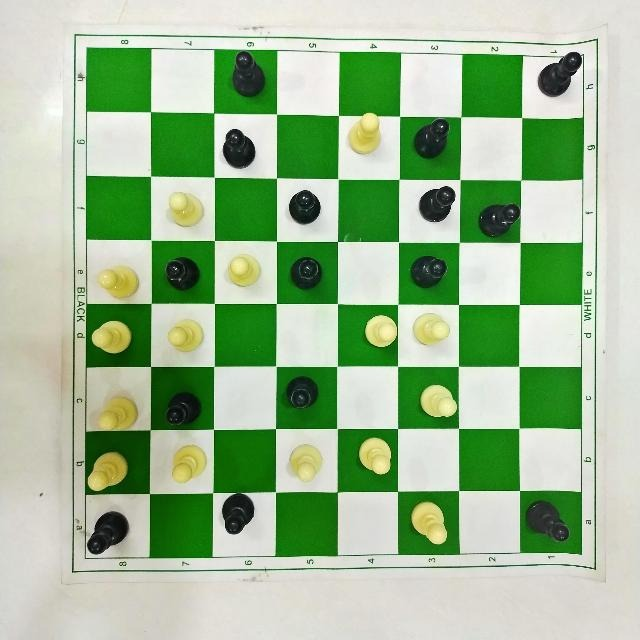black-pawn: (524, 493, 574, 549), (82, 510, 133, 562), (534, 50, 585, 100), (474, 198, 525, 244), (229, 48, 269, 102), (411, 115, 457, 159), (219, 490, 258, 541), (416, 183, 462, 225), (221, 127, 261, 175), (162, 389, 207, 431), (163, 253, 202, 295), (289, 252, 326, 294), (282, 376, 321, 414), (409, 256, 451, 290), (287, 187, 324, 225)
white-pawn: (84, 449, 133, 495), (89, 315, 136, 358), (344, 110, 384, 158), (410, 498, 450, 546), (95, 262, 141, 300), (165, 187, 204, 229), (170, 444, 209, 486), (94, 396, 139, 432), (419, 382, 459, 422), (411, 310, 451, 348), (357, 436, 393, 478), (288, 442, 324, 483), (167, 316, 202, 358), (227, 252, 263, 291), (362, 313, 398, 349)
